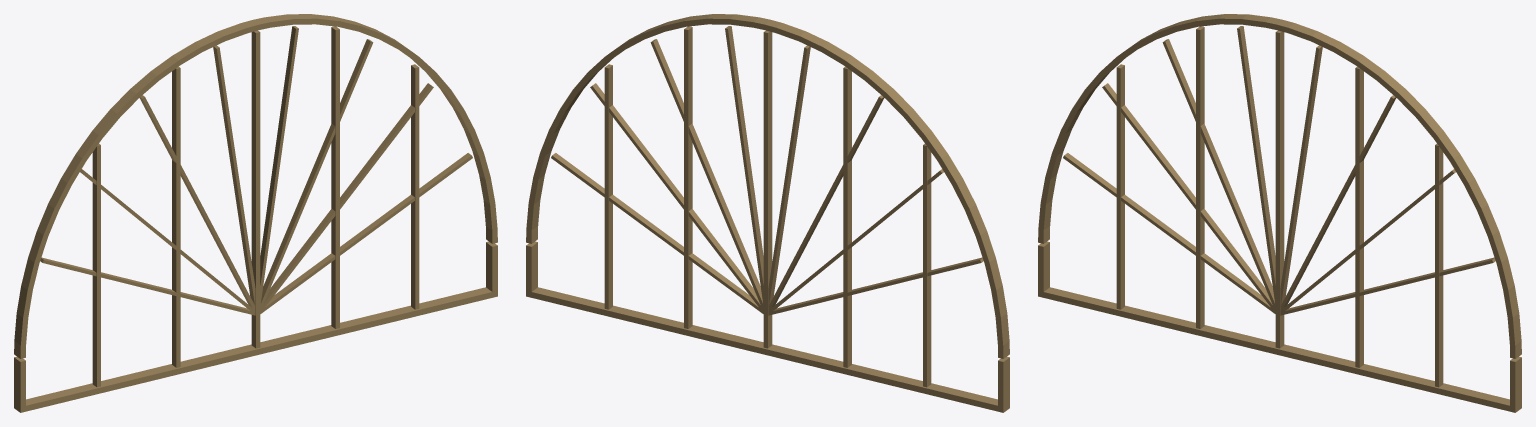
Rendered from marine-copper-grille.lod0.glb.
The picture shows the model from 3 angles, left to right: view 1: azimuth 30°, elevation 25°; view 2: azimuth 150°, elevation 25°; view 3: azimuth 330°, elevation 25°; orthographic projection.
Parts seen in each view (by area): view 1: marine-copper-grille; view 2: marine-copper-grille; view 3: marine-copper-grille.
Part boxes in pixels (<box>): marine-copper-grille: <box>14,14,497,412</box>; marine-copper-grille: <box>526,14,1009,412</box>; marine-copper-grille: <box>1038,14,1521,412</box>.
Size of the model in its own units: 5.1 by 3.37 by 0.12.
